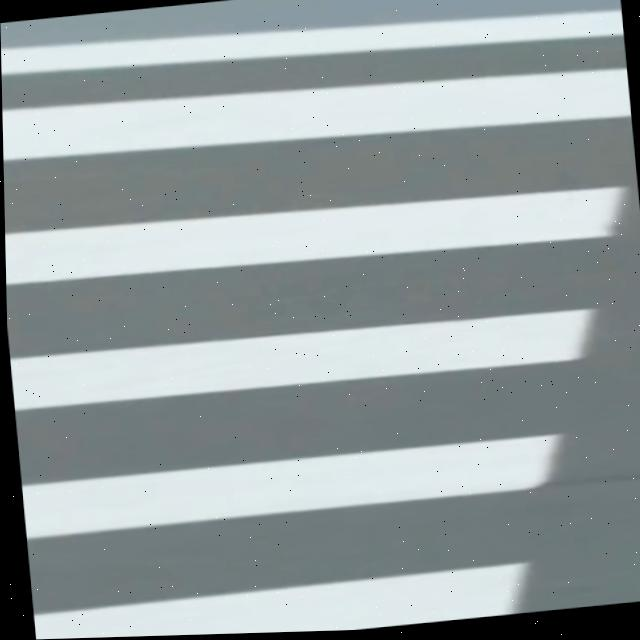left: (1, 7, 623, 73)
